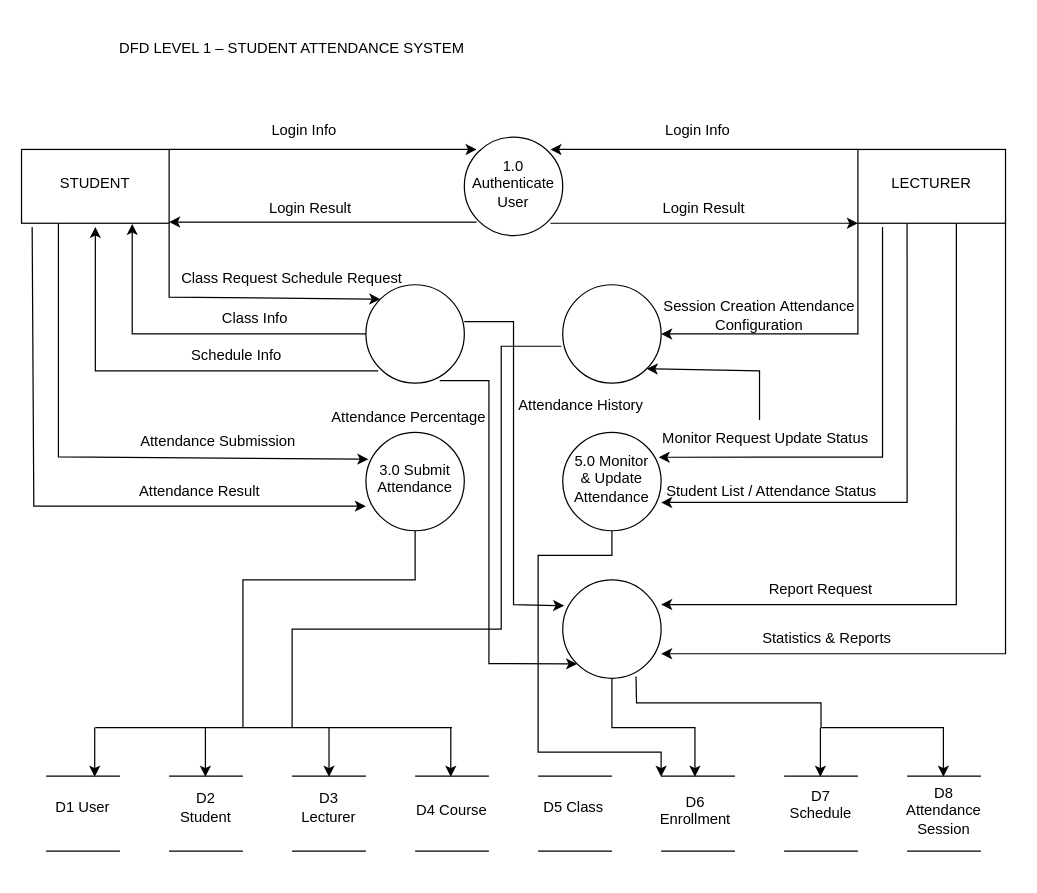
This 1037x893 diagram has some shape labels left out. Here are the shapes that lost their labels. From the top down, the centre of each, then its label:
point (414, 333): 2.0 View Class & Schedule
point (611, 333): 4.0 Manage Attendance Session
point (611, 628): 6.0 View Attendance & Reports
